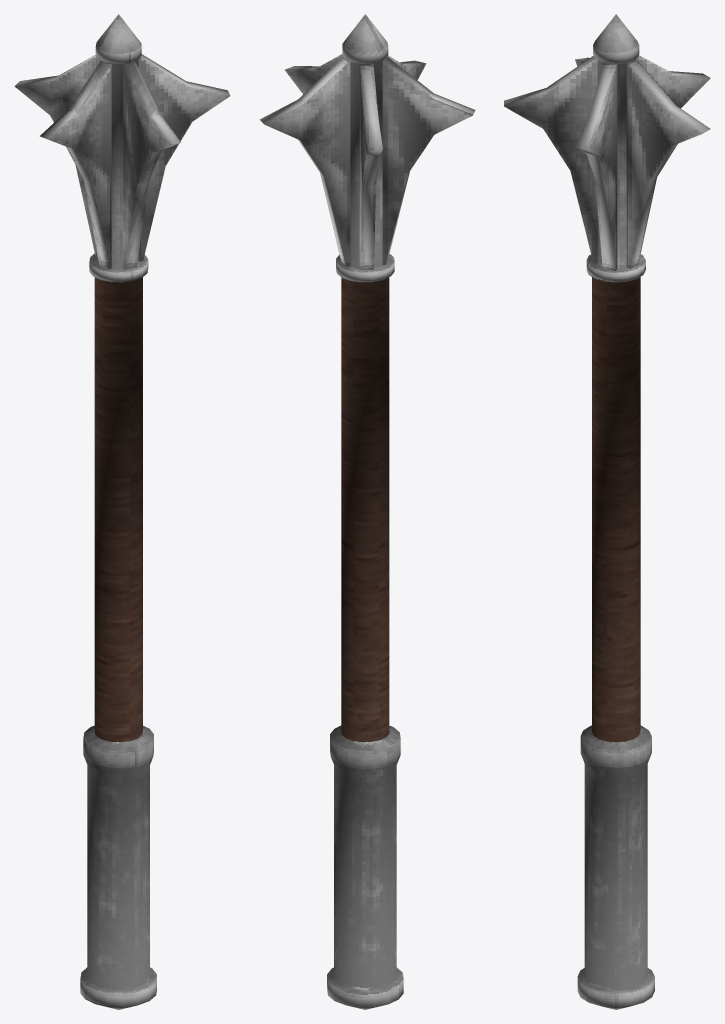
File: mace_menu.gltf
3 renders of one model, left to right at view 1: azimuth 30°, elevation 25°; view 2: azimuth 150°, elevation 25°; view 3: azimuth 270°, elevation 25°, orthographic.
Visible parts, largest first — view 1: Cylinder.006; view 2: Cylinder.006; view 3: Cylinder.006.
Part boxes in pixels (x1=…): Cylinder.006: x1=14, y1=14, x2=230, y2=1009; Cylinder.006: x1=259, y1=14, x2=475, y2=1009; Cylinder.006: x1=504, y1=14, x2=710, y2=1009.
Bounding box in the file's own units: 0.3266 × 1.65 × 0.3106.
Materials: 3 (3 with a texture image).
